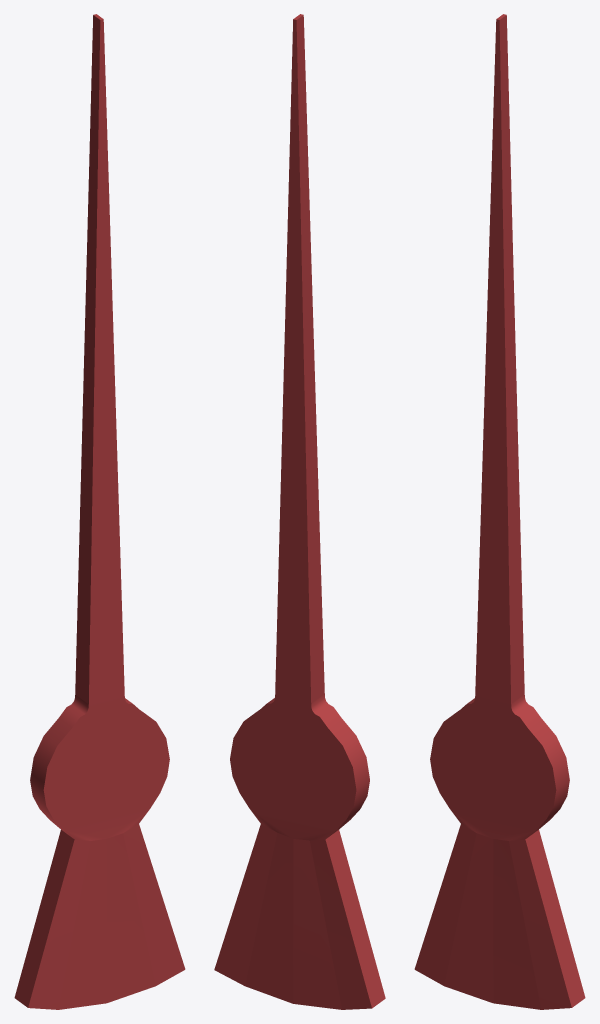
Rendered from needle.obj.
3 renders of one model, left to right at view 1: azimuth 30°, elevation 25°; view 2: azimuth 150°, elevation 25°; view 3: azimuth 330°, elevation 25°, orthographic.
Visible parts, largest first — view 1: x_reg_hanson_scales_display-arrow_Untitled.001; view 2: x_reg_hanson_scales_display-arrow_Untitled.001; view 3: x_reg_hanson_scales_display-arrow_Untitled.001.
Part boxes in pixels (x1,y1,x2,y2): x_reg_hanson_scales_display-arrow_Untitled.001: [14, 14, 185, 1009]; x_reg_hanson_scales_display-arrow_Untitled.001: [214, 14, 385, 1009]; x_reg_hanson_scales_display-arrow_Untitled.001: [414, 14, 585, 1009].
Size of the model in its own units: 0.0167 by 0.0993 by 0.00257.
